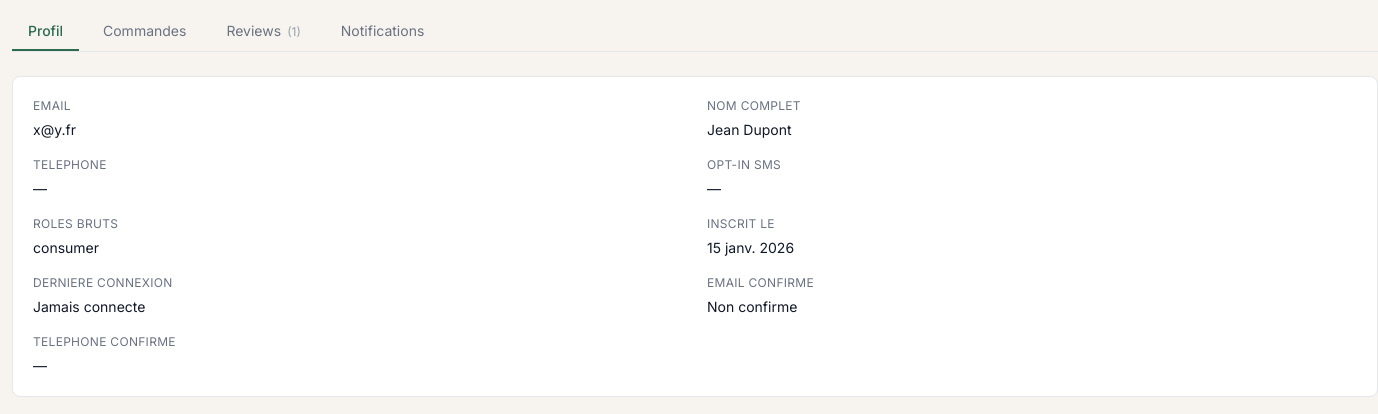
UserDetailTabs — clic onglet Reviews › clic Reviews -> panel reviews visible avec contenu review
What coordinates should you click on to do the following:
click the tab "Reviews(1)"
I would click on:
 (264, 32)
Its box is [210, 12, 317, 51].
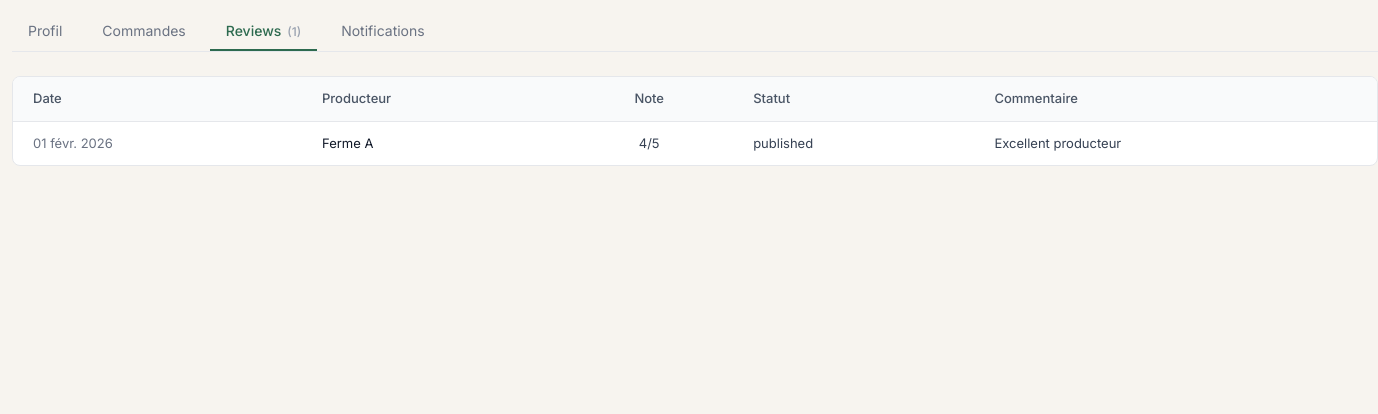
Result: the text "Excellent producteur" is shown at [974, 121, 1377, 165]
